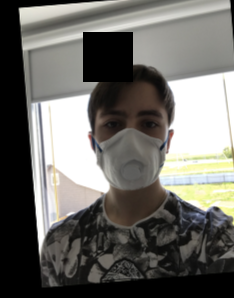with_mask: (90, 99, 171, 191)
